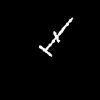double_crochet: (39, 18, 72, 55)
